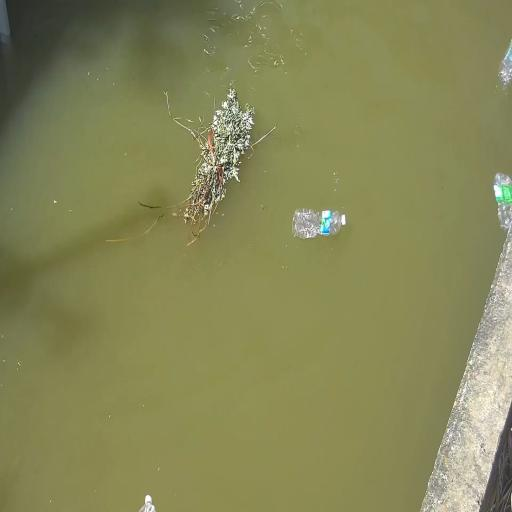plastic: (292, 209, 346, 238), (494, 174, 511, 230), (499, 41, 511, 90), (140, 495, 155, 511)
twig: (165, 89, 254, 237)
